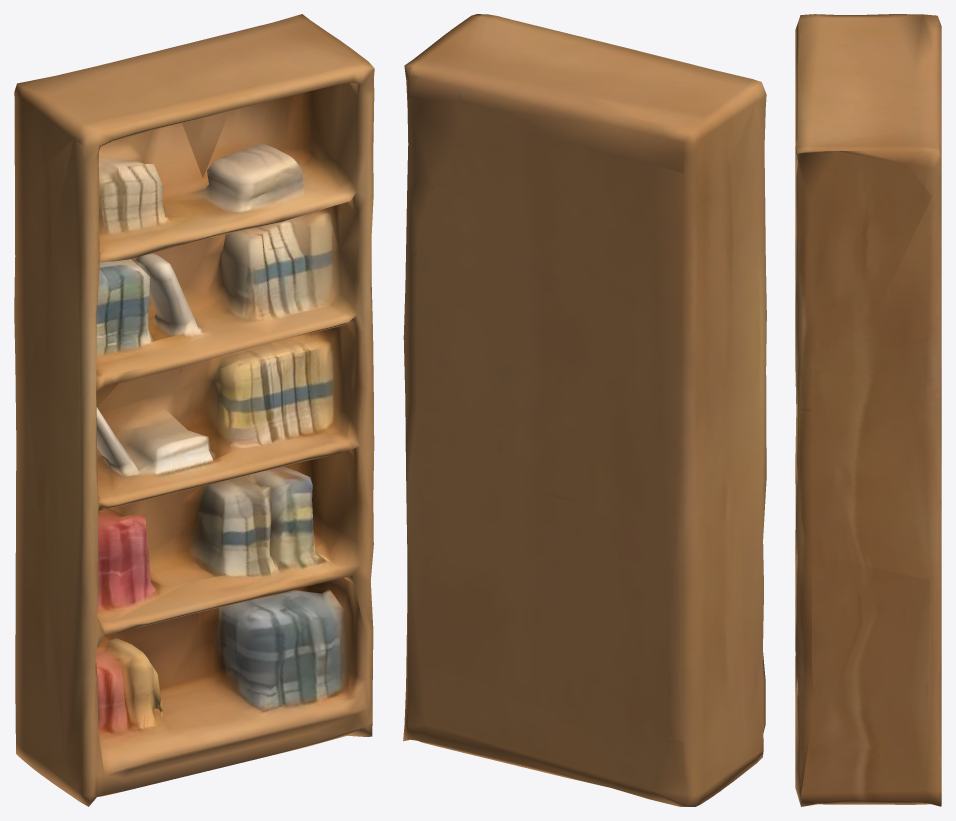
Rendered from bookcase.glb.
The picture shows the model from 3 angles, left to right: view 1: azimuth 30°, elevation 25°; view 2: azimuth 150°, elevation 25°; view 3: azimuth 270°, elevation 25°; orthographic projection. The views are drawn at different scales.
Visible parts, largest first — view 1: bookcase; view 2: bookcase; view 3: bookcase.
Boxes of the visible parts, bbox=[...] form: bookcase: bbox=[14, 14, 374, 806]; bookcase: bbox=[403, 14, 766, 806]; bookcase: bbox=[795, 14, 941, 806].
Size of the model in its own units: 0.7999 by 1.78 by 0.3601.
1 material, 1 textured.
